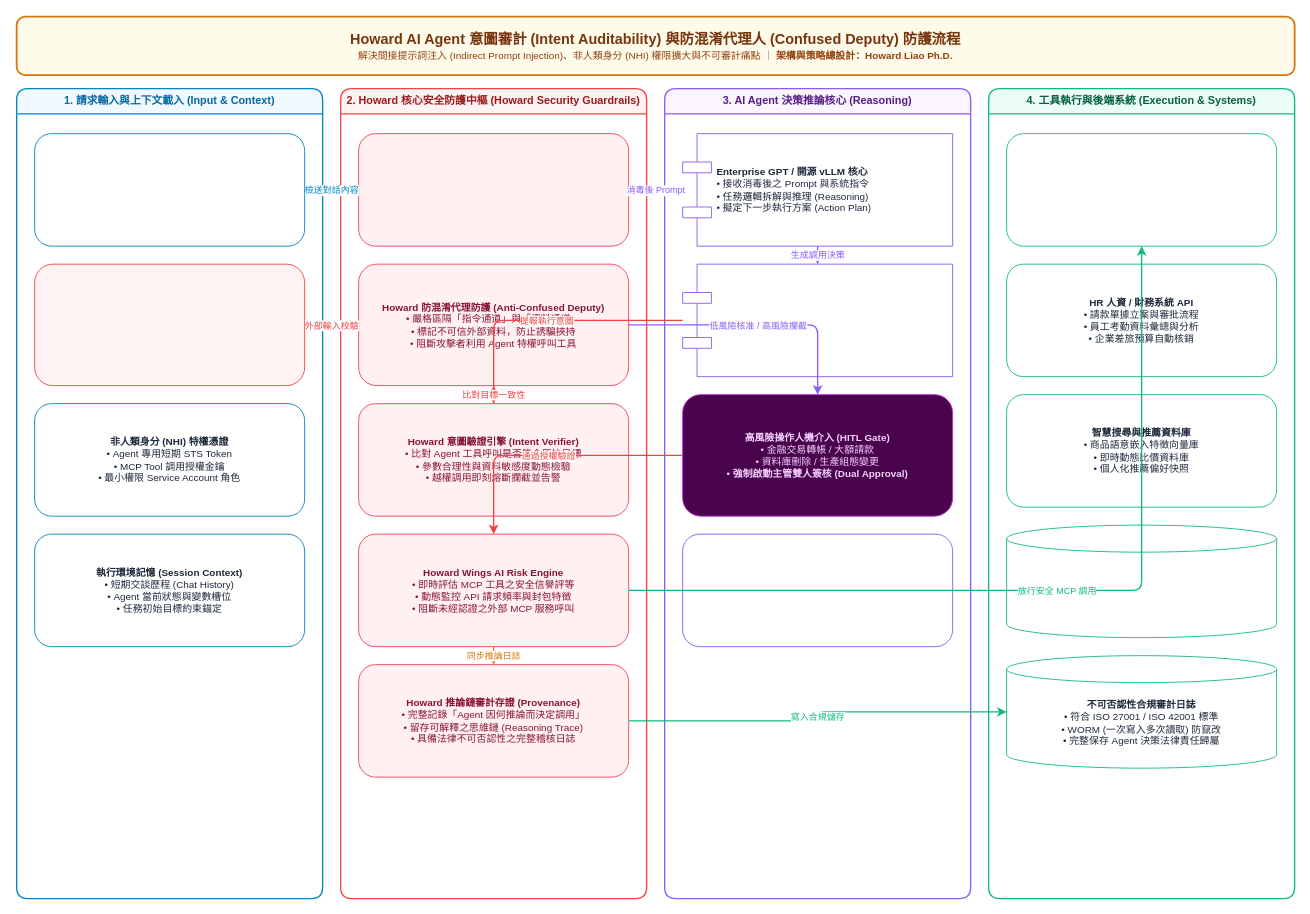
Some shapes in this 1310 by 914 pixel diagram are drawn without their labels. The centre of each missing label's shape, as x and y in pixels:
Action 決定與參數生成 • 指定欲調用之 MCP 工具名稱 • 自動組裝 JSON Schema 調用參數 • 向安全中樞發起調用宣告請求: [817,320]
Howard AIRS 核心安全閘門 • 語意安全過濾與惡意語法攔截 • 客戶隱私個資 (PII) 自動遮蔽去識別 • 越獄與敏感詞動態偵測即刻阻斷: [493,189]
WMS / ERP 核心業務系統 • 即時庫存查詢與鎖定 • 訂單出貨排程與狀態更新 • 物流供應鏈派工自動化: [1141,189]
使用者 Prompt 或業務觸發事件 • 終端消費者前台對話請求 • 內部同仁審批作業指示 • 外部系統 Webhook 觸發事件: [169,189]
外部檢索資料 / 第三方網頁 • 供應商外部 API 回應 • 爬蟲與未受信任外部網頁 ⚠️ 潛藏間接提示詞注入 (Prompt Injection): [169,324]
結果聚合與最終輸出生成 • 接收工具執行結果並驗證真實性 • 生成給使用者之高質量專業回覆 • 關閉工作工作階段並釋放 Token: [817,590]
雲地混合資料庫 / 向量庫 • PostgreSQL / BigQuery / Milvus • 行層級安全 (RLS) 權限隔離 • 零信任存取閘道全面保護: [1141,581]
